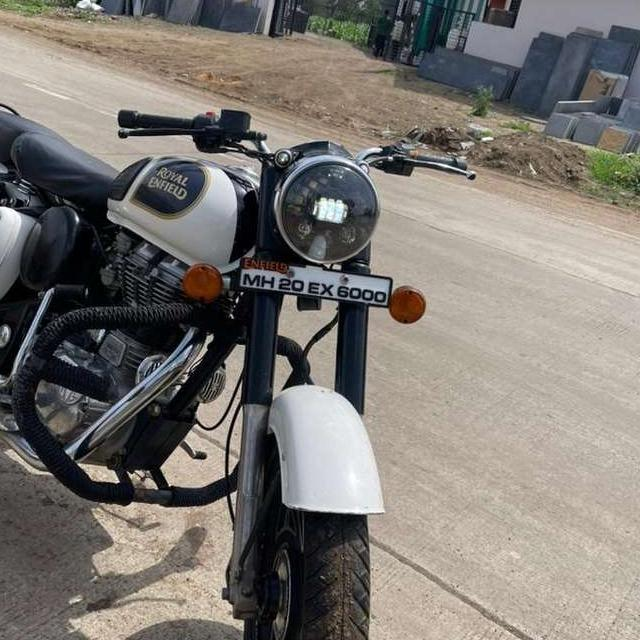Indian_Number_Plate: (238, 254, 393, 307)
